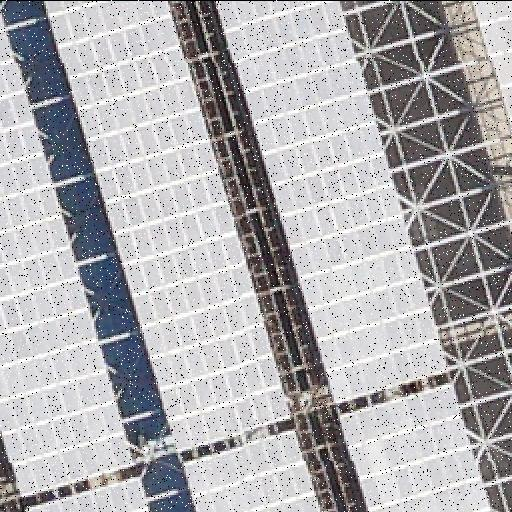solar-panel: (45, 0, 291, 452), (216, 0, 448, 400), (0, 4, 136, 496), (336, 380, 492, 512), (183, 428, 321, 512), (472, 0, 512, 128), (26, 473, 154, 511)
